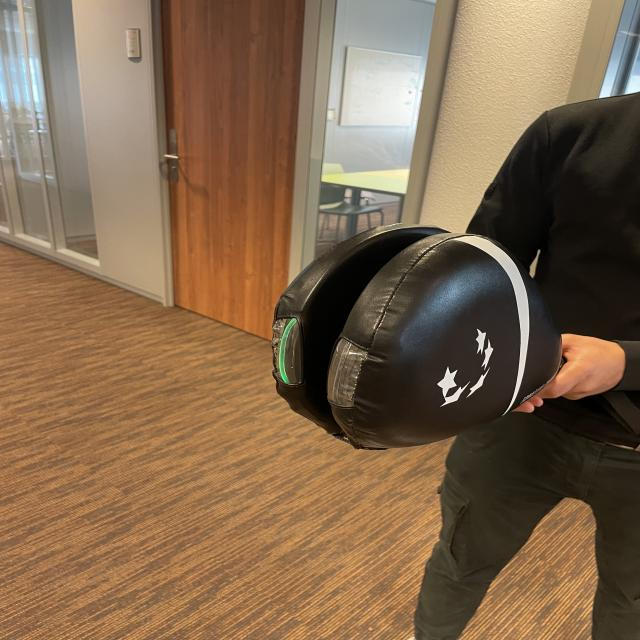paddle: (271, 223, 558, 454)
trigger: (274, 310, 307, 388)
